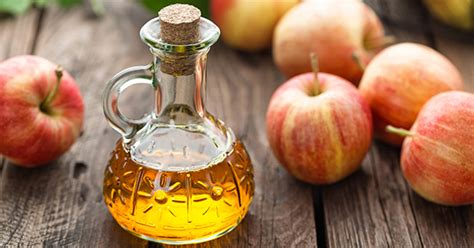apple: (262, 66, 374, 189), (354, 40, 465, 144), (1, 50, 87, 172), (268, 1, 395, 83), (397, 89, 474, 210)
